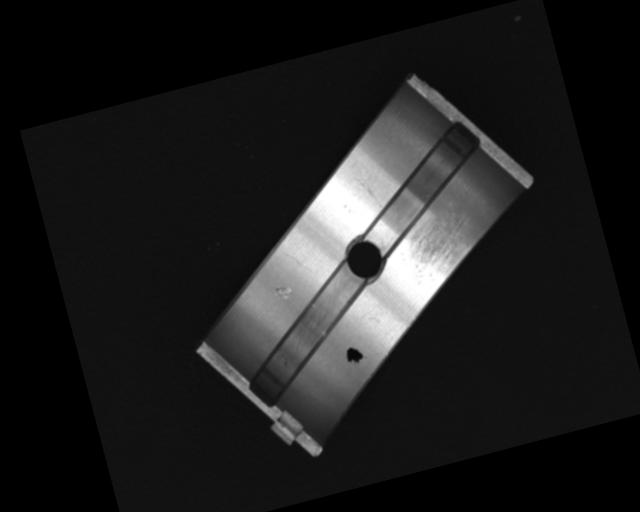blot: (343, 344, 366, 367)
bruise: (271, 282, 294, 303)
gap: (231, 262, 387, 404), (347, 116, 499, 248)
hole: (340, 234, 389, 285)
nick: (355, 167, 382, 214), (285, 248, 314, 278)
scratch: (395, 205, 486, 289)
